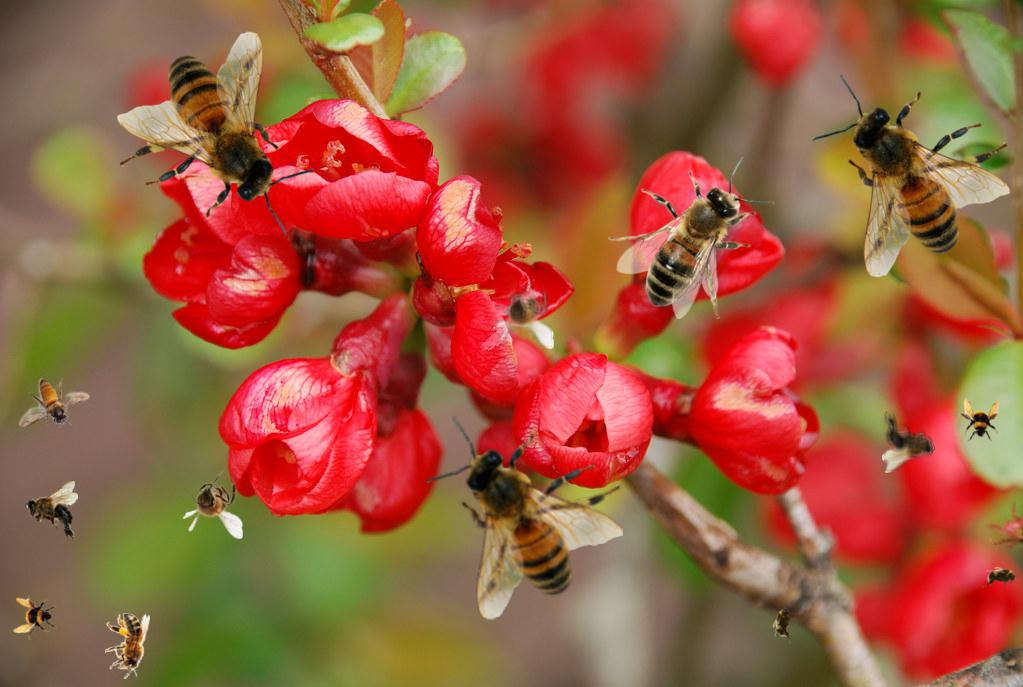Bee: (117, 31, 316, 235), (811, 74, 1010, 278), (424, 416, 623, 620), (608, 157, 775, 319), (493, 279, 554, 349), (182, 469, 243, 539), (19, 378, 90, 428), (25, 481, 78, 543), (882, 411, 935, 473), (105, 613, 150, 679), (13, 596, 57, 640), (957, 398, 1001, 442), (769, 600, 799, 644), (982, 566, 1022, 588)
